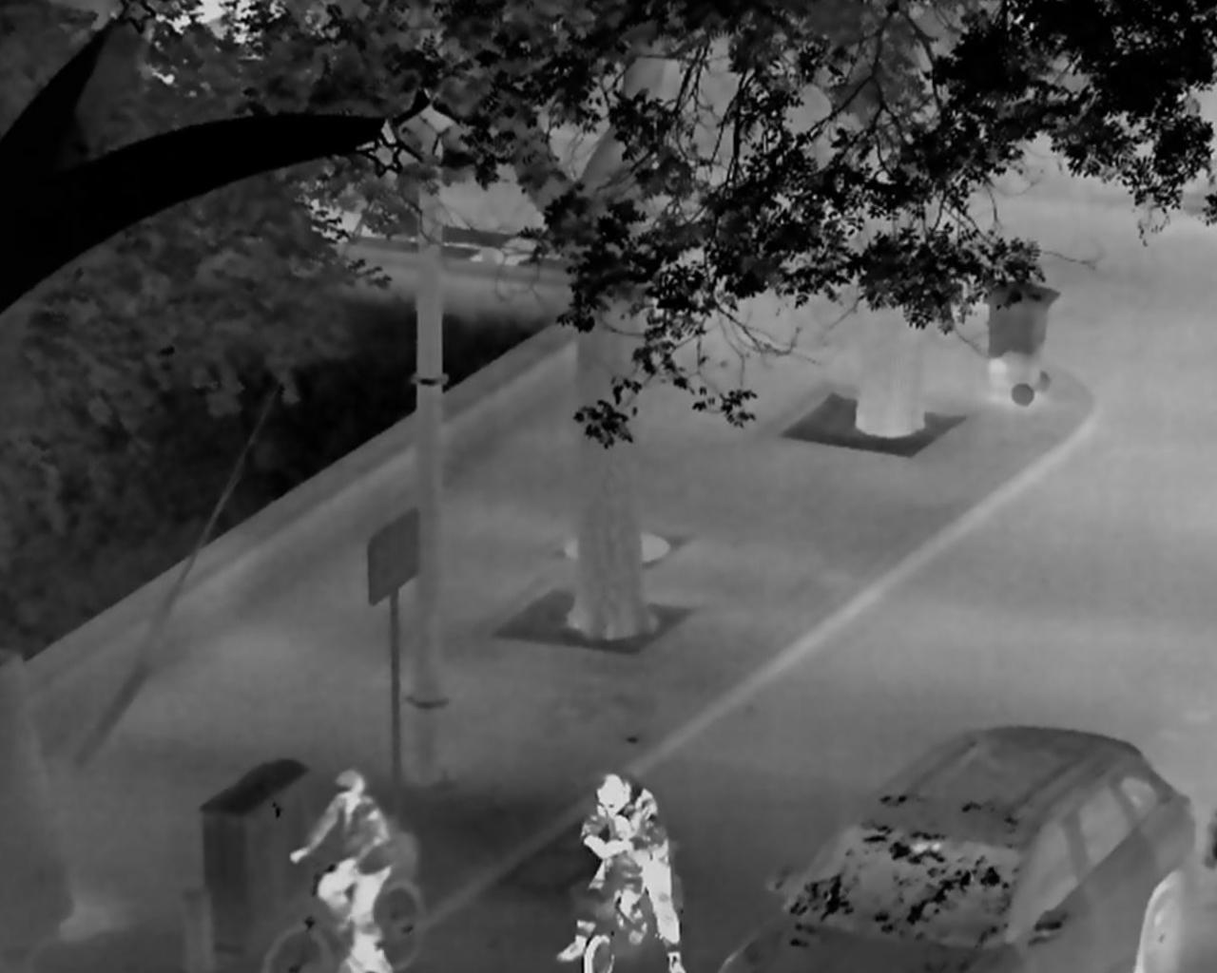person: (555, 771, 689, 973), (288, 767, 396, 951), (604, 804, 652, 945), (334, 923, 397, 973)
